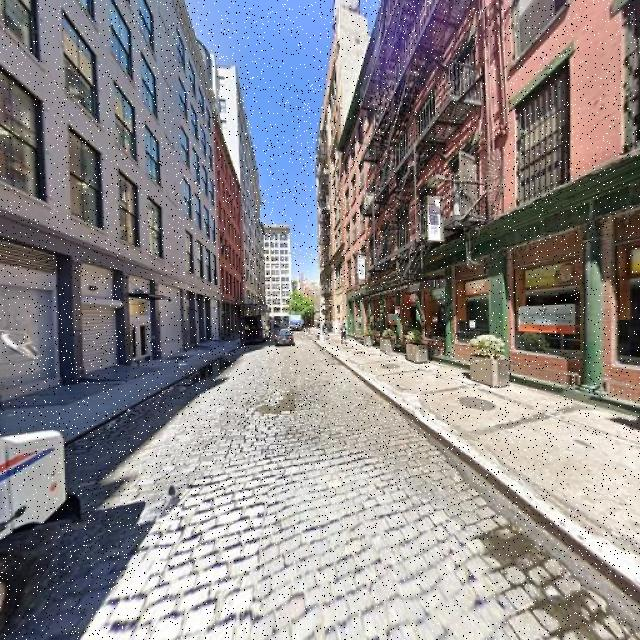Building: (1, 1, 240, 390), (488, 1, 640, 402)
